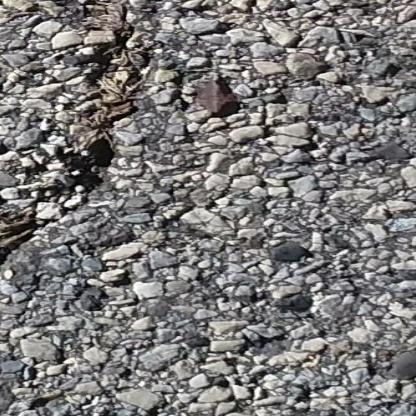Cracks: (55, 134, 120, 200)
